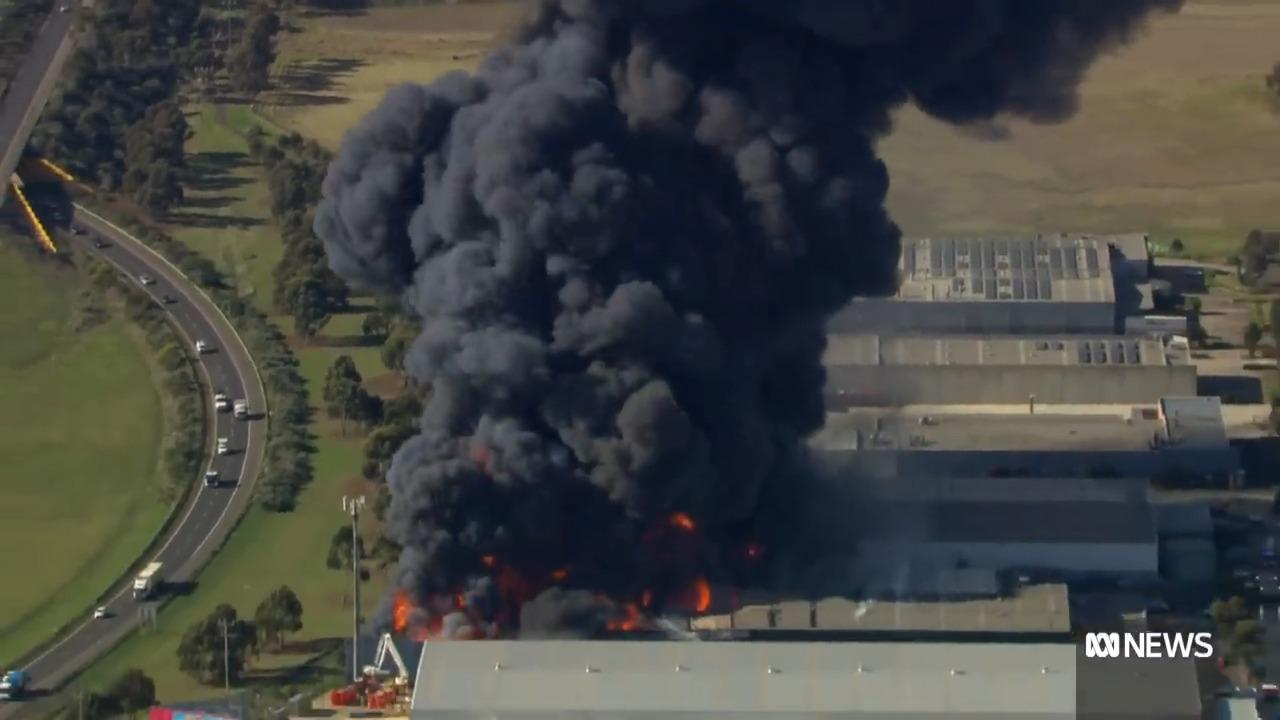fire: (667, 496, 708, 539), (696, 574, 715, 613), (396, 590, 415, 626)
